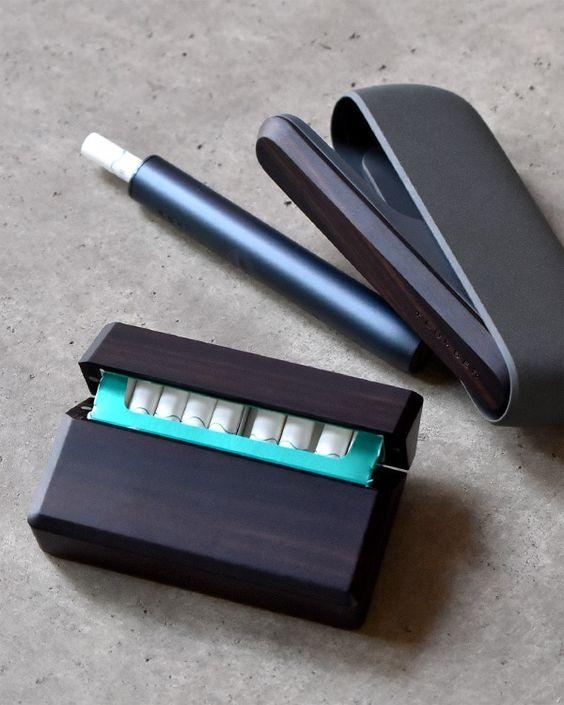iqos: (81, 133, 422, 372)
